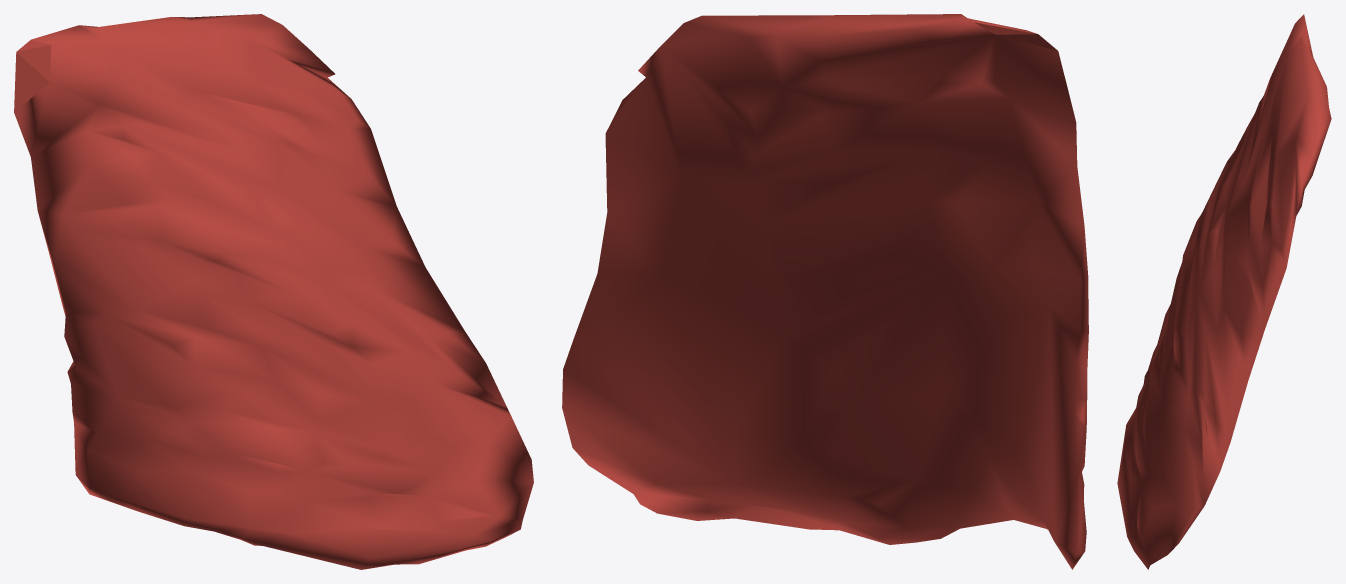
The model's file is musculos-pronator-quadratus-l.glb.
The picture shows the model from 3 angles, left to right: view 1: azimuth 30°, elevation 25°; view 2: azimuth 150°, elevation 25°; view 3: azimuth 270°, elevation 25°; orthographic projection. The views are drawn at different scales.
Visible parts, largest first — view 1: Pronator quadratus.l; view 2: Pronator quadratus.l; view 3: Pronator quadratus.l.
Part boxes in pixels (box(x1,y1,x2,y2)): Pronator quadratus.l: box(14, 14, 533, 569); Pronator quadratus.l: box(562, 14, 1088, 569); Pronator quadratus.l: box(1117, 14, 1331, 569).
Size of the model in its own units: 0.0466 by 0.0521 by 0.0247.
